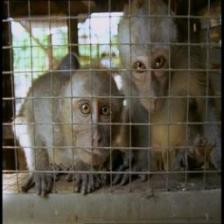monkey: (63, 58, 122, 184), (125, 11, 180, 120)
